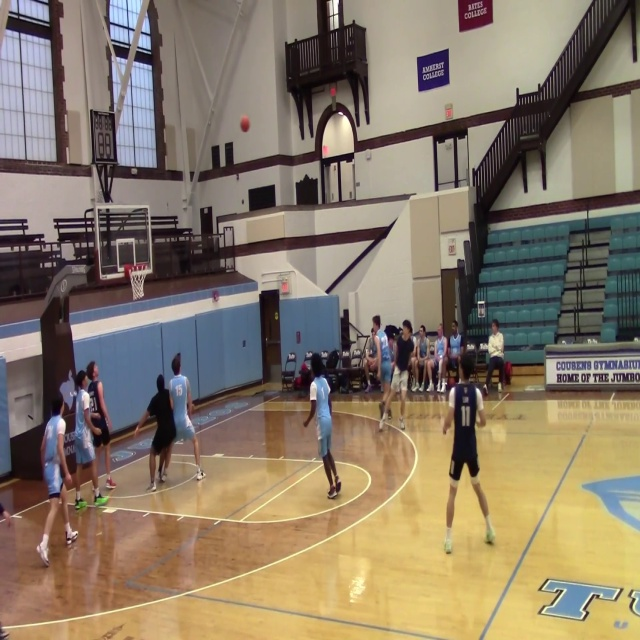Basketball: (240, 115, 250, 132)
